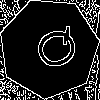Q: (24, 23, 83, 77)
